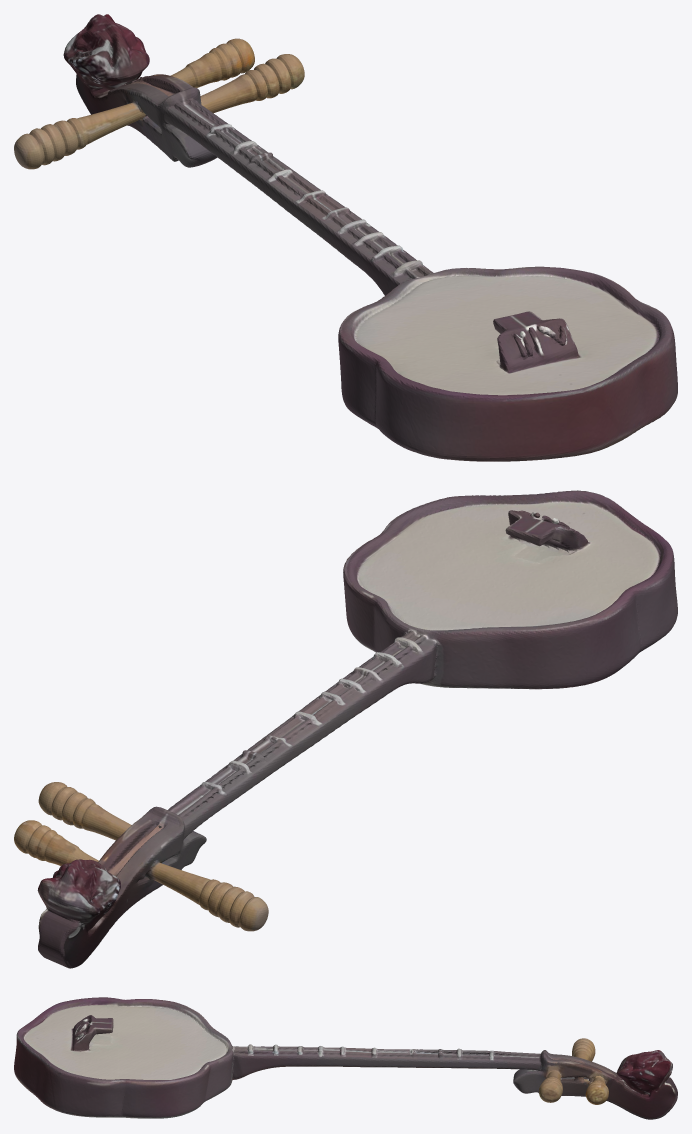
Rendered from qinqin.gltf.
3 renders of one model, top to bottom at view 1: azimuth 30°, elevation 25°; view 2: azimuth 150°, elevation 25°; view 3: azimuth 270°, elevation 25°, orthographic. The views are drawn at different scales.
Visible parts, largest first — view 1: tripo_node_7bf4004b-036b-48c4-a887-16ec9f9887e5; view 2: tripo_node_7bf4004b-036b-48c4-a887-16ec9f9887e5; view 3: tripo_node_7bf4004b-036b-48c4-a887-16ec9f9887e5.
Boxes of the visible parts, bbox=[...] form: tripo_node_7bf4004b-036b-48c4-a887-16ec9f9887e5: bbox=[14, 14, 677, 461]; tripo_node_7bf4004b-036b-48c4-a887-16ec9f9887e5: bbox=[14, 490, 677, 968]; tripo_node_7bf4004b-036b-48c4-a887-16ec9f9887e5: bbox=[14, 997, 677, 1119].
Bounding box in the file's own units: 30.42 × 14.45 × 102.
1 material, 1 textured.
